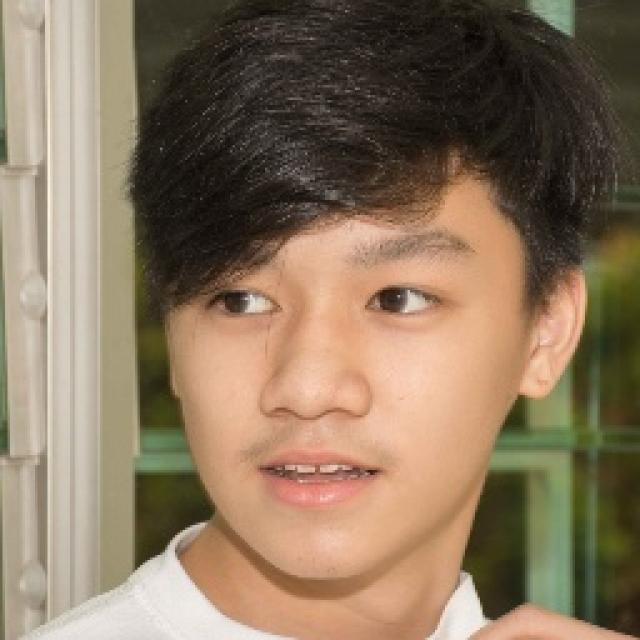earlobe: (518, 365, 564, 402), (168, 370, 185, 400)
eye: (199, 283, 283, 324), (366, 282, 453, 320)
nose: (261, 401, 371, 446)
wholeear: (524, 254, 588, 405)
